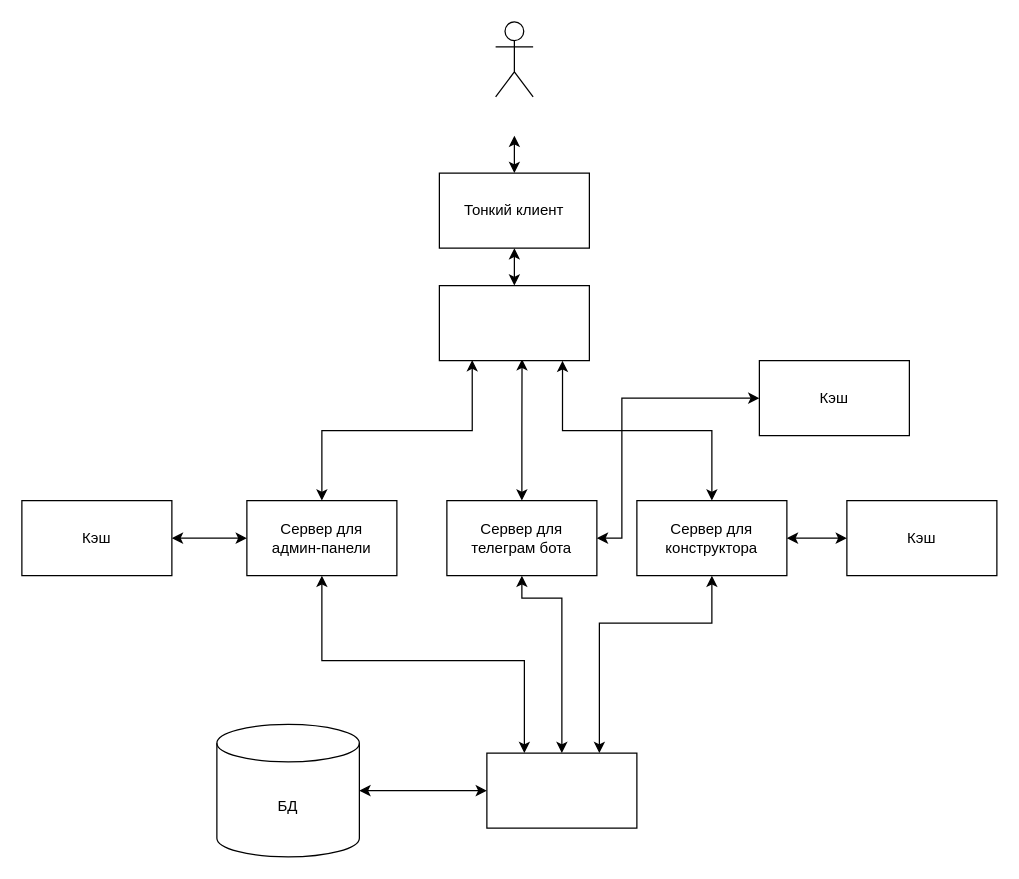
Image size: 1019x879. Some labels were removed from this diagram. The shapes that lost their labels are listed below. From the top down, each one's box as (x1, y1, x2, y2) in pixels, then its label:
(494, 21, 533, 97): Пользователь
(438, 284, 589, 361): Прокси-сервер
(486, 752, 637, 828): СУБД
